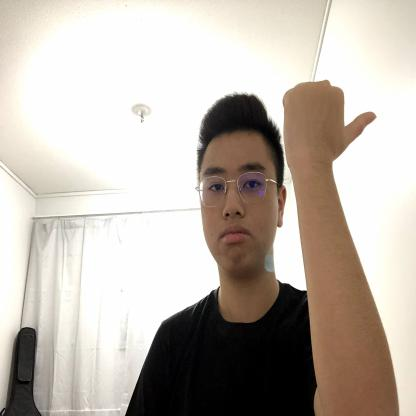left: (280, 75, 378, 176)
